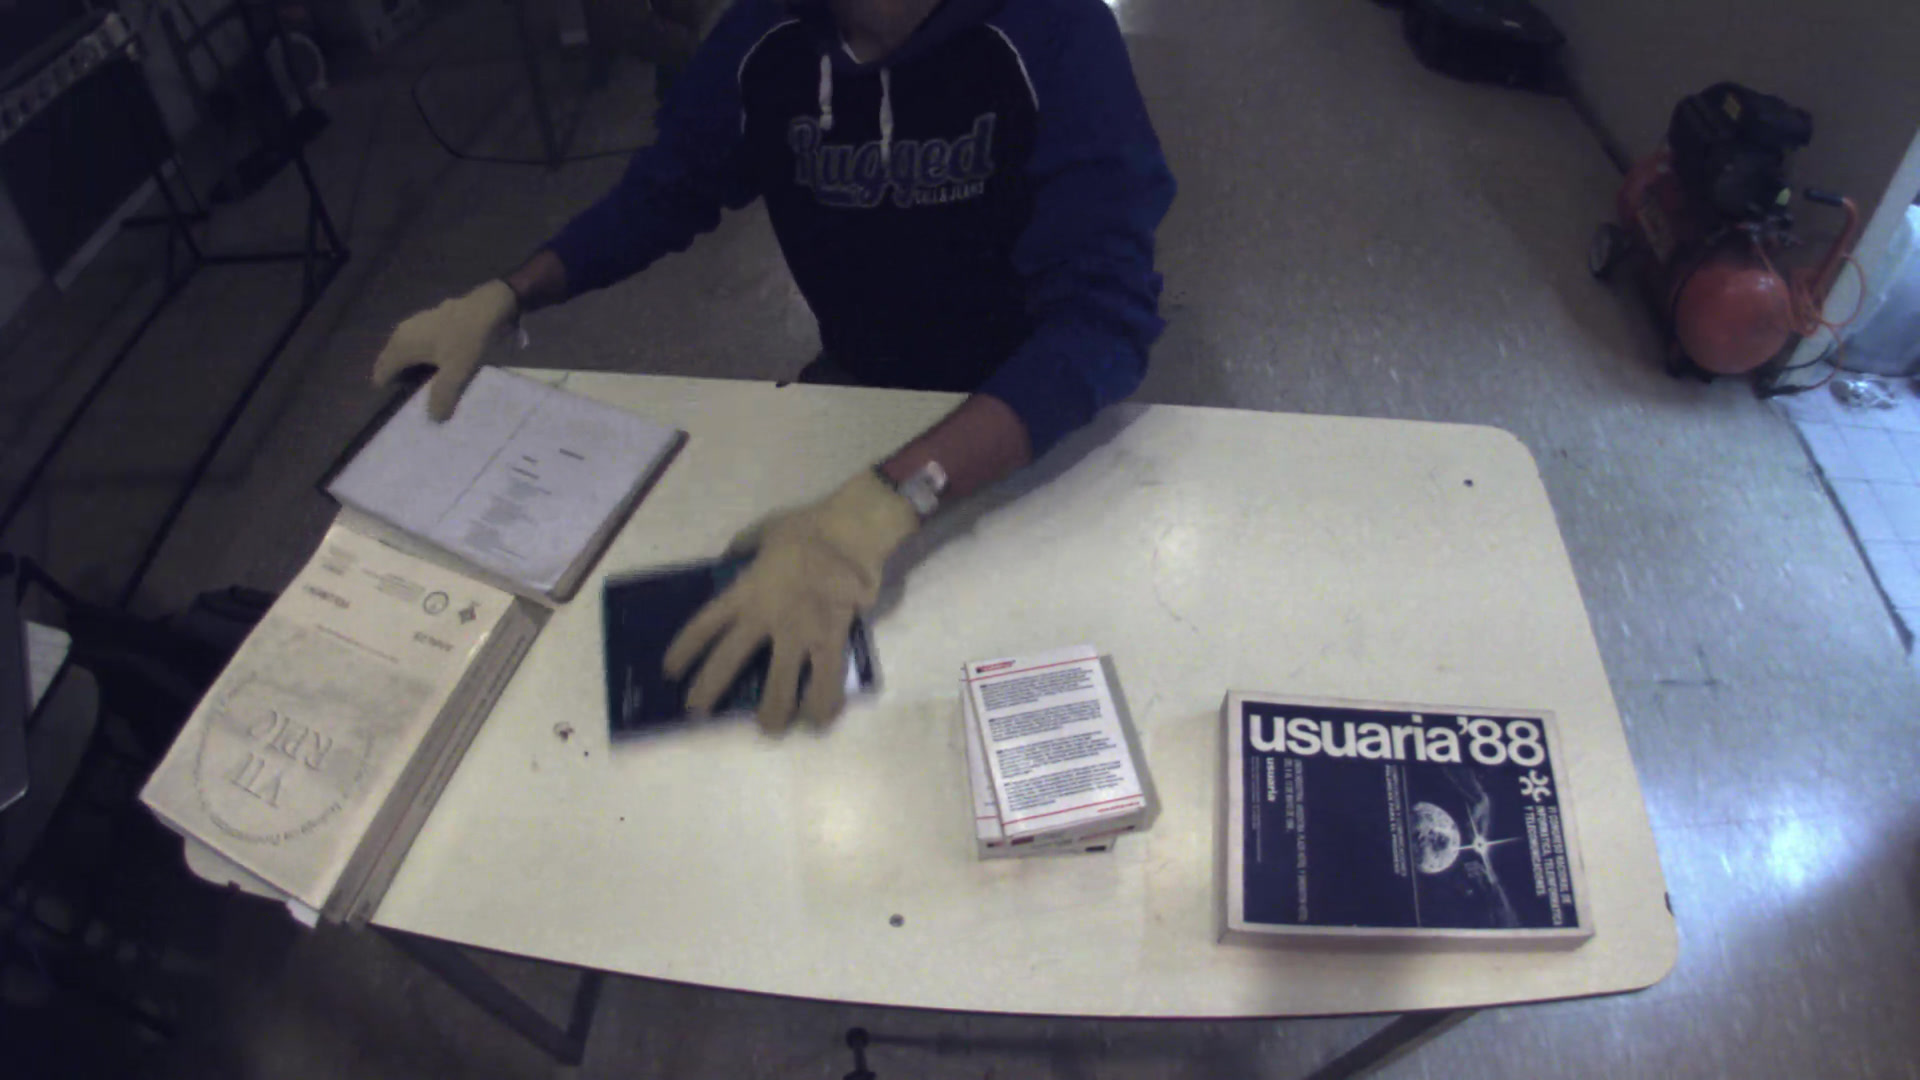hand: (646, 465, 924, 736), (363, 276, 518, 419)
